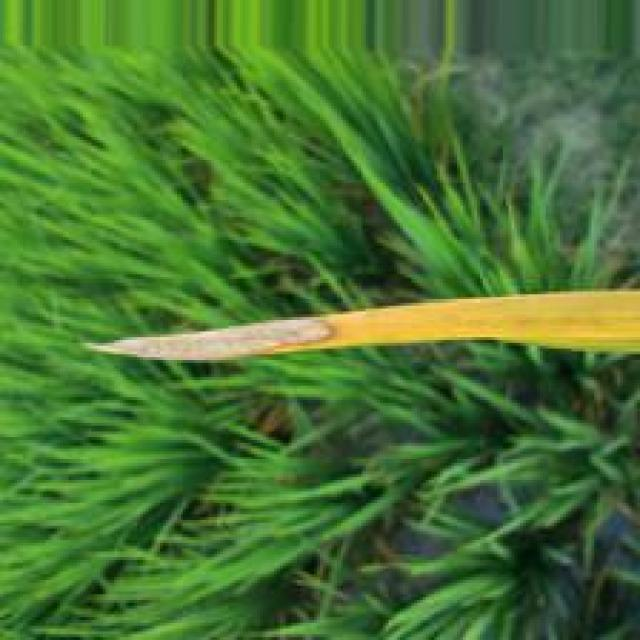Rice False Smut: (96, 318, 344, 360)
